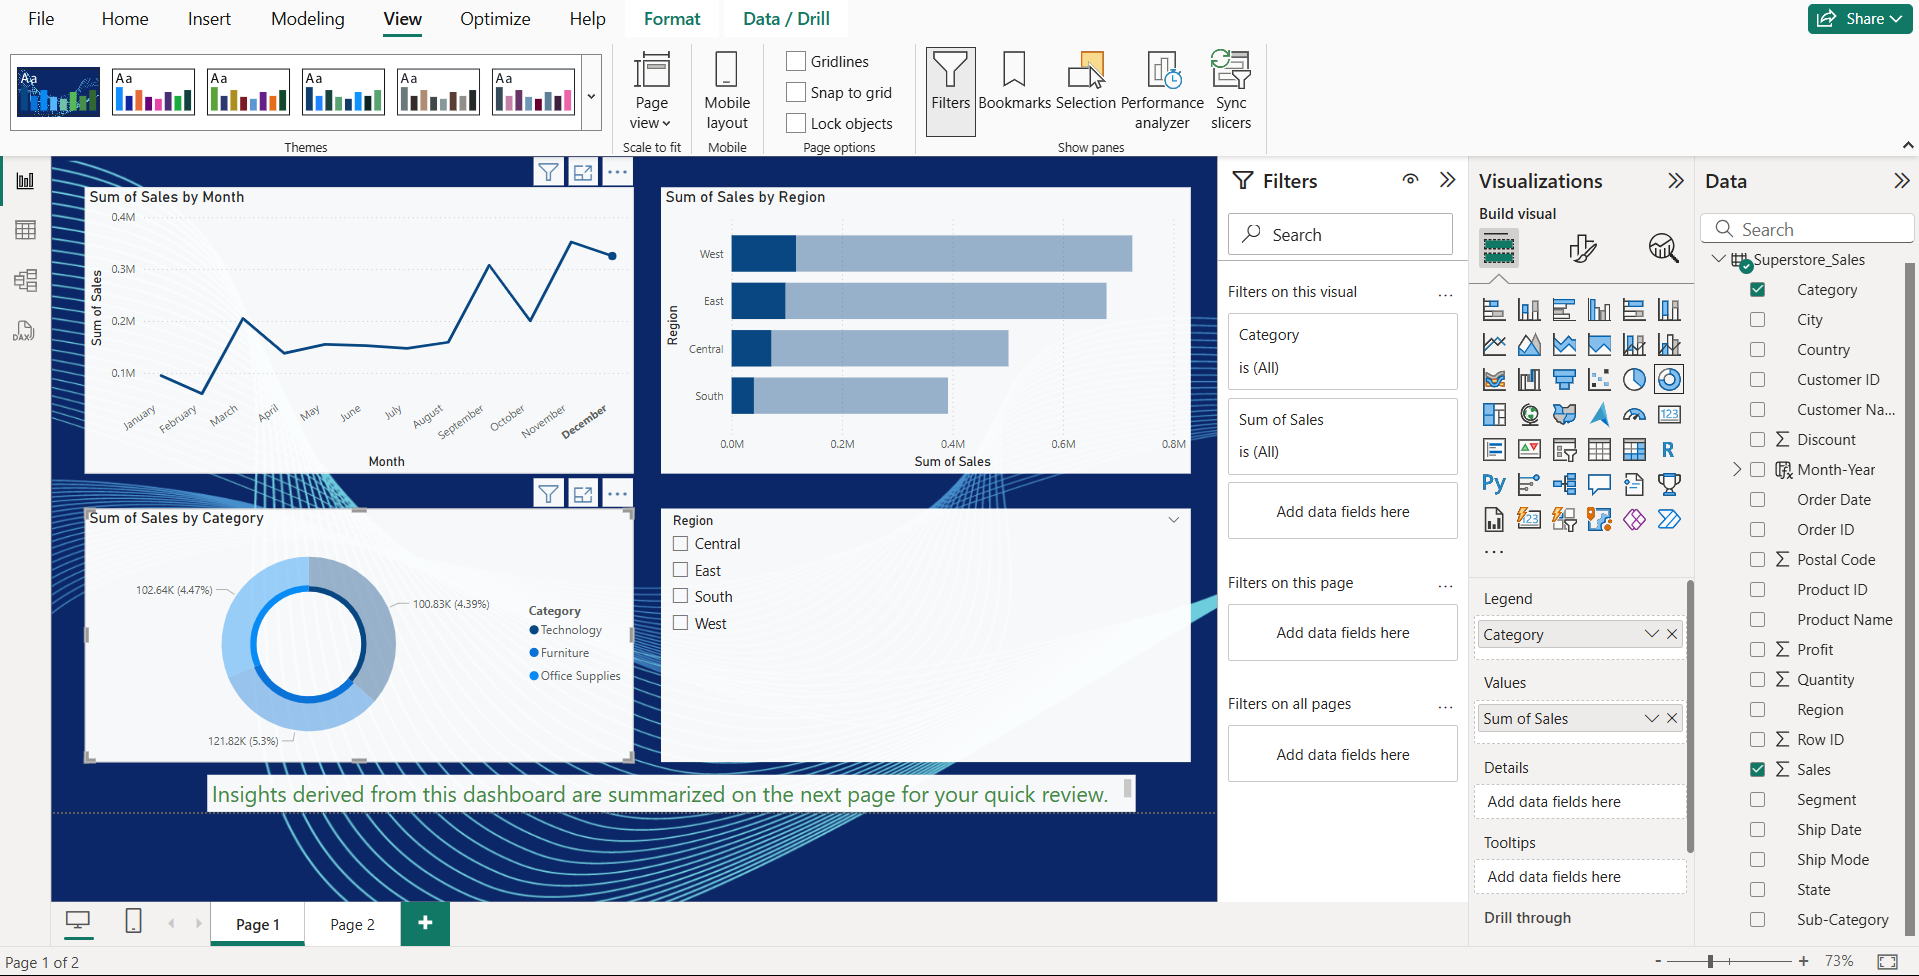

Layout of this report page (visuals, bound fields, positions):
{"tool":"powerbi","page":{"name":"Page 1","canvas":[1280,720],"ordinal":0},"visuals":[{"type":"lineChart","fields":{"Y":["Sum(Superstore_Sales.Sales)"],"Category":["Superstore_Sales.Month-Year.Variation.Date Hierarchy.Month"]},"box":[37,34.3,602.4,314.2],"z":0},{"type":"barChart","fields":{"Y":["Sum(Superstore_Sales.Sales)"],"Category":["Superstore_Sales.Region"]},"box":[669.6,34.3,581.8,314.2],"z":1000},{"type":"donutChart","fields":{"Y":["Sum(Superstore_Sales.Sales)"],"Category":["Superstore_Sales.Category"]},"box":[37,387,602.4,278.6],"z":2000},{"type":"slicer","fields":{"Values":["Superstore_Sales.Region"]},"box":[669.6,387,581.8,278.6],"z":3000},{"type":"textbox","box":[171.5,679.2,1019.6,41.2],"z":3001}]}

Visuals, with their boxes on the page's 1280x720 design canvas (x1, y1, x2, y2). These are canvas units, not pixel positions in the 1919x976 screenshot, which may show the page scaled, cropped or inside an application window:
lineChart - Sum(Superstore_Sales.Sales) x Superstore_Sales.Month-Year.Variation.Date Hierarchy.Month: BBox(37, 34, 639, 348)
barChart - Sum(Superstore_Sales.Sales) x Superstore_Sales.Region: BBox(670, 34, 1251, 348)
donutChart - Sum(Superstore_Sales.Sales) x Superstore_Sales.Category: BBox(37, 387, 639, 666)
slicer - Superstore_Sales.Region: BBox(670, 387, 1251, 666)
textbox: BBox(172, 679, 1191, 720)
